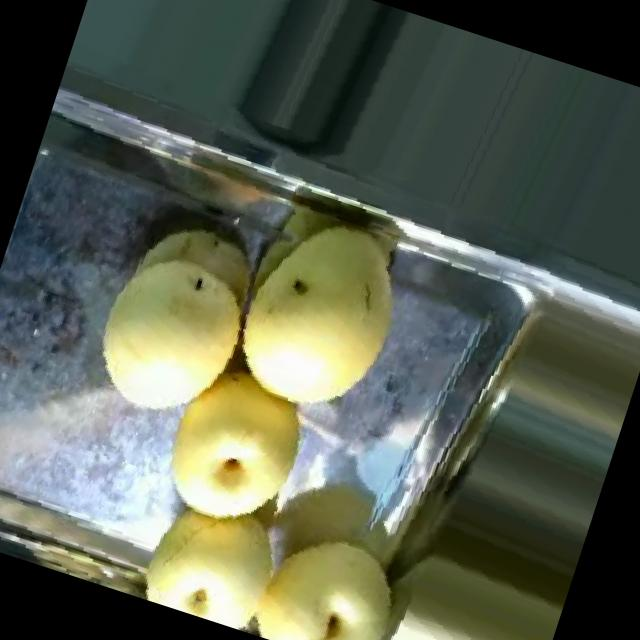Fruit: (218, 192, 432, 438), (74, 200, 267, 434), (143, 342, 332, 546), (236, 506, 430, 640)
